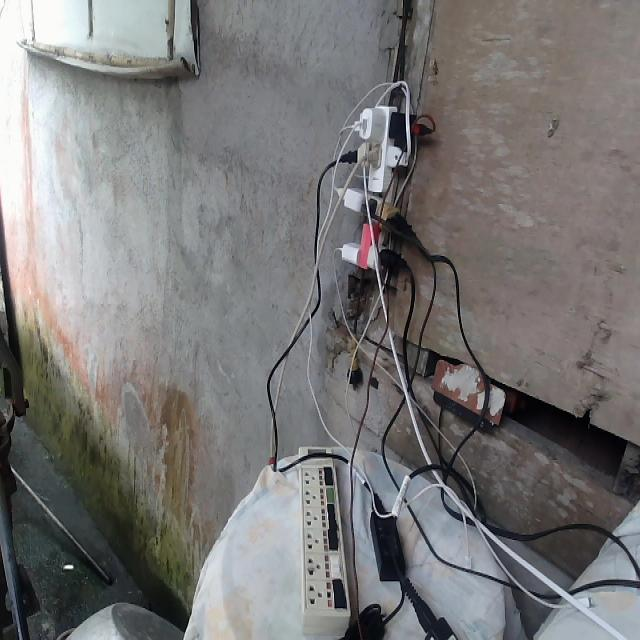-: (328, 99, 425, 276)
